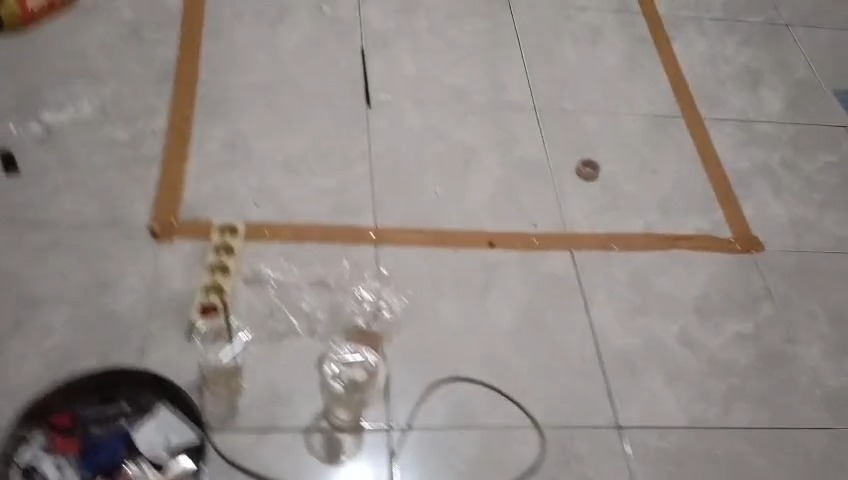floor marking: (245, 0, 764, 251), (148, 0, 216, 242)
